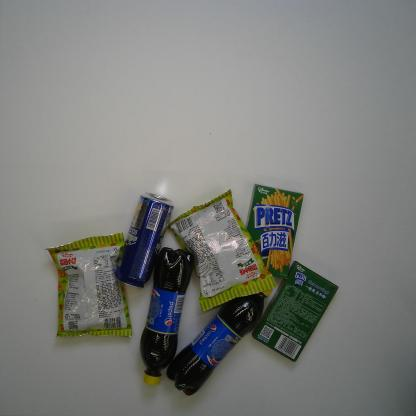Alcohol: (113, 190, 174, 289)
Dessert: (251, 260, 339, 363), (244, 184, 304, 279)
Drink: (166, 282, 273, 396), (140, 246, 192, 387)
Puffed Food: (167, 188, 278, 312), (45, 232, 133, 338)
